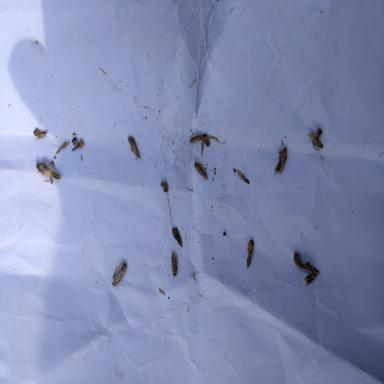pbw: (274, 146, 289, 174), (112, 262, 128, 288), (245, 239, 255, 267), (309, 132, 324, 150), (127, 136, 139, 158), (194, 161, 208, 179), (171, 227, 183, 248), (303, 261, 320, 275), (204, 133, 220, 147), (236, 169, 250, 184), (304, 271, 317, 286), (293, 251, 303, 270), (56, 140, 69, 154), (32, 128, 48, 138), (171, 253, 177, 278), (189, 134, 205, 143), (72, 139, 83, 151), (200, 139, 205, 153)
